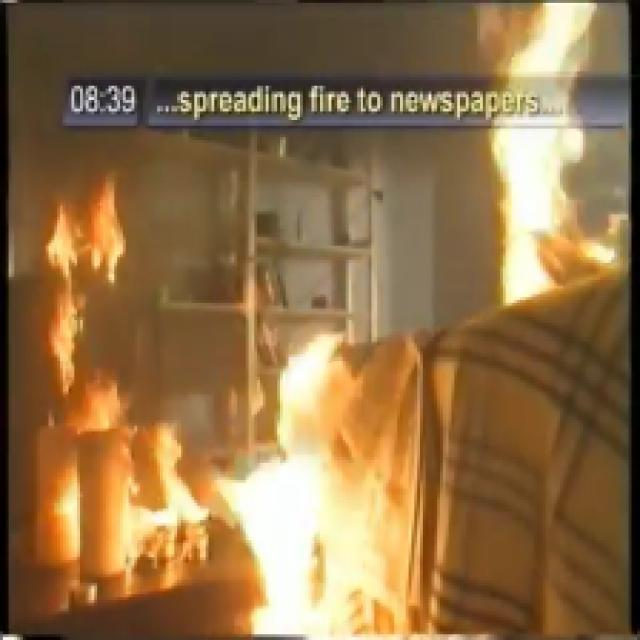Fire: (29, 210, 182, 615), (232, 359, 412, 640), (492, 0, 608, 329)
